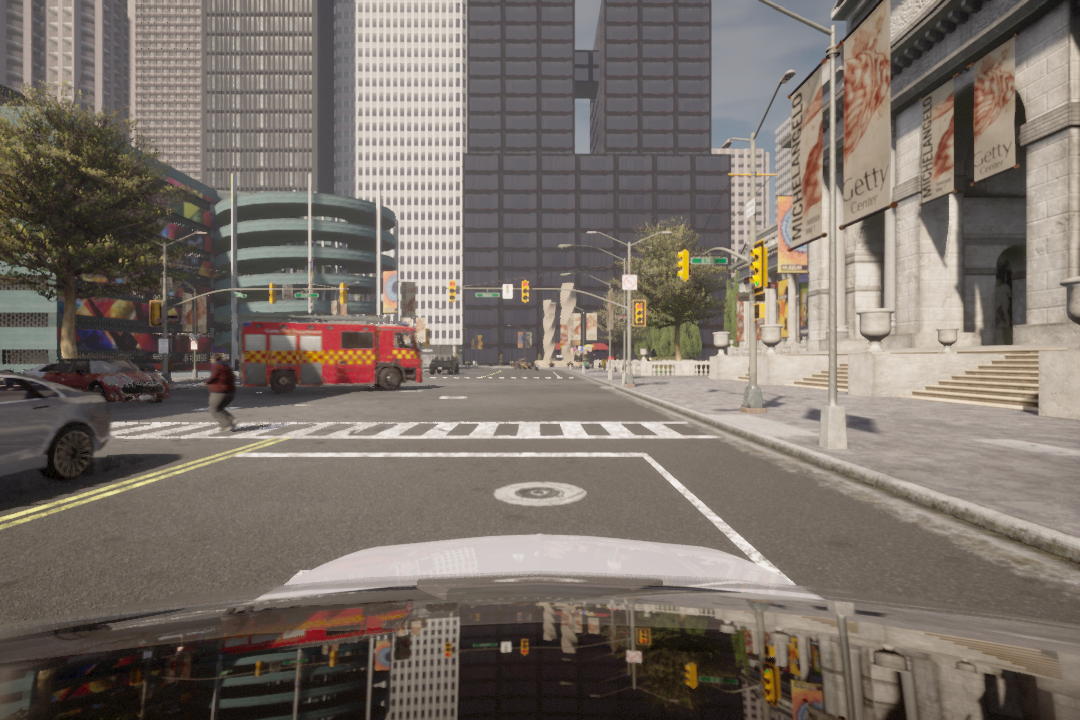TrafficLight: (747, 242, 764, 295), (677, 251, 690, 281), (634, 304, 644, 329), (447, 281, 459, 301), (522, 281, 531, 304)
TrafficSign: (621, 277, 637, 291)
walkside: (112, 421, 719, 444)
